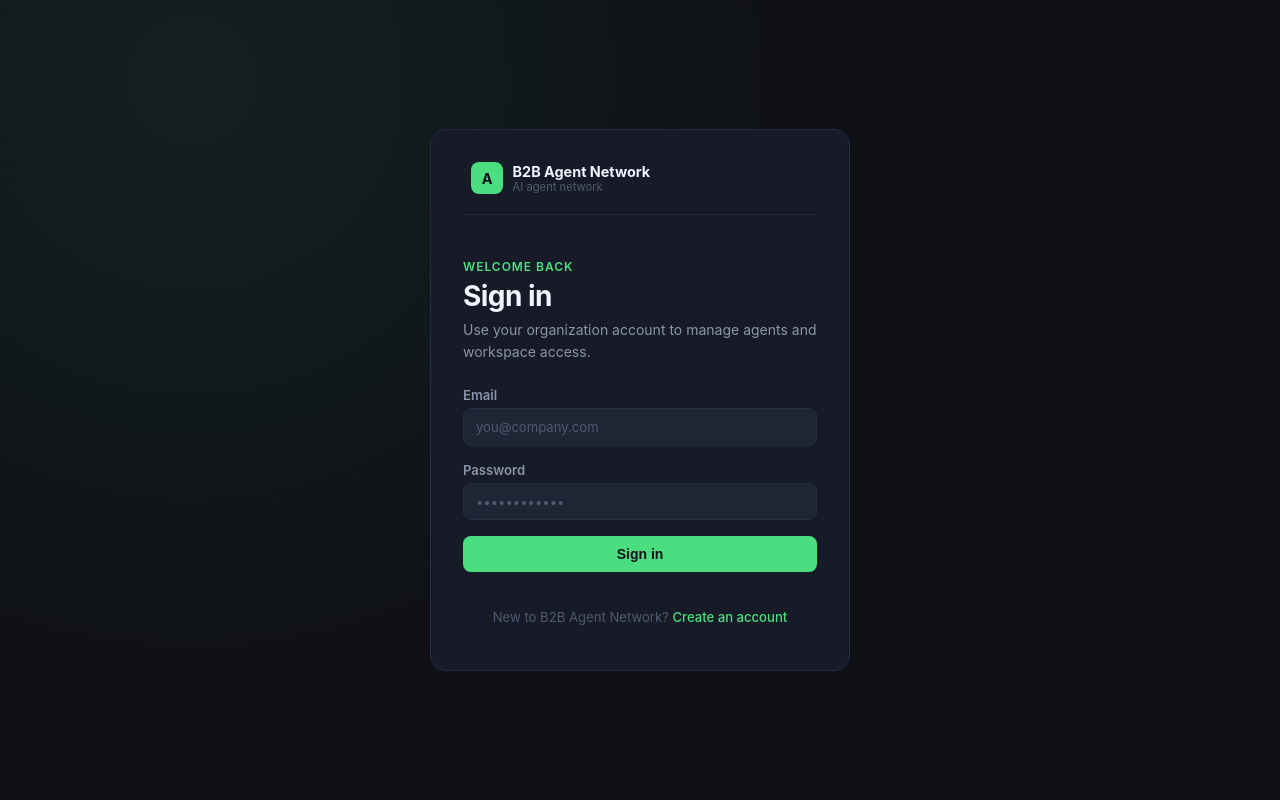
Scenario: authentication flow › signs in and shows the workspace overview
Type "owner@example.test" into the field labelled "Email" at (640, 427), box [463,408,817,446]
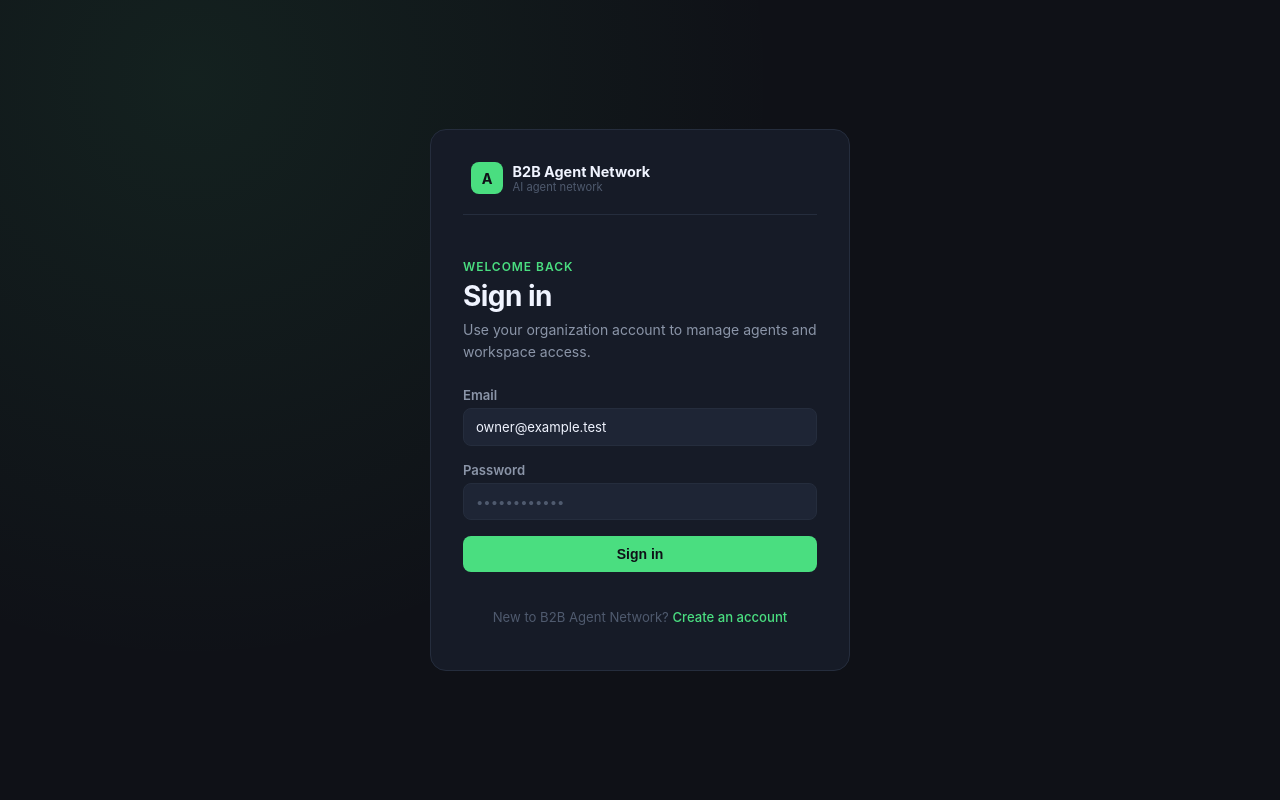
Type "correct horse battery staple" into the password field labelled "Password" at (640, 502), box [463,483,817,520]
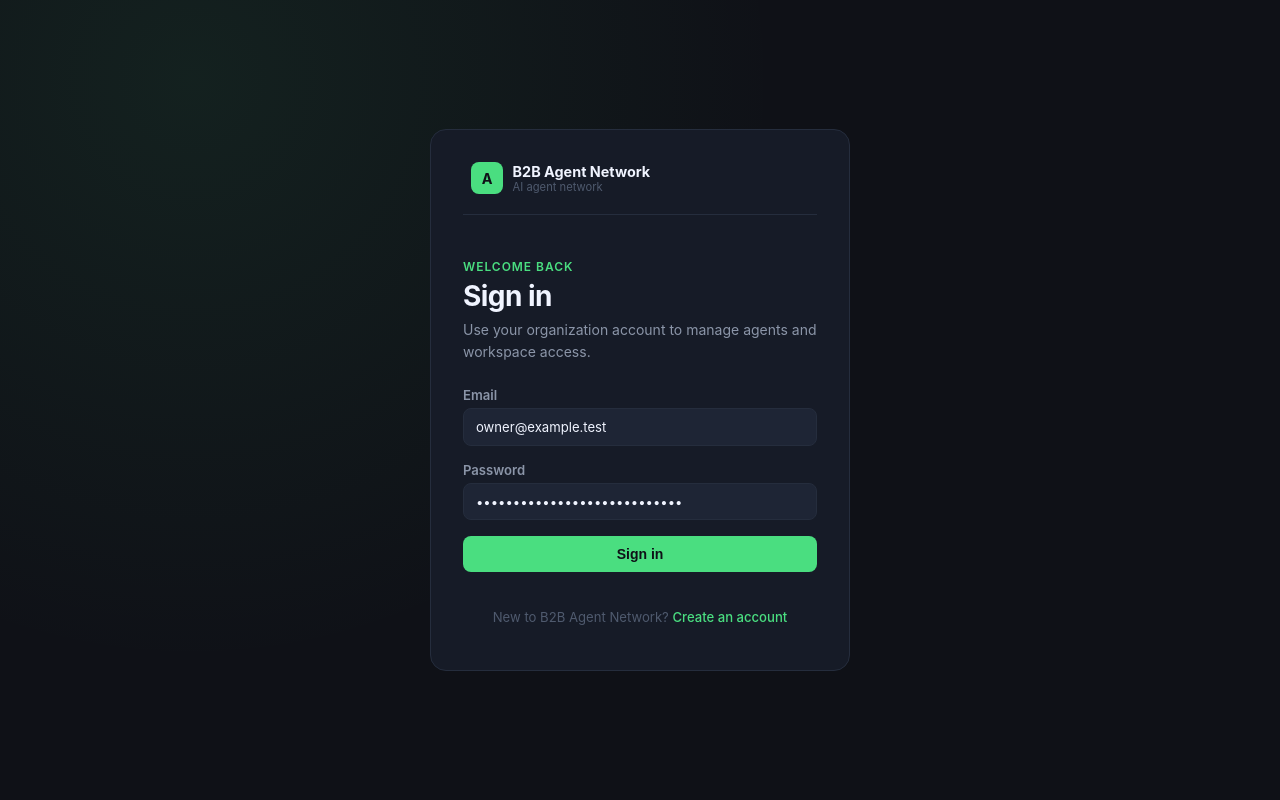
Click the button "Sign in" at (640, 554), box [463,536,817,572]
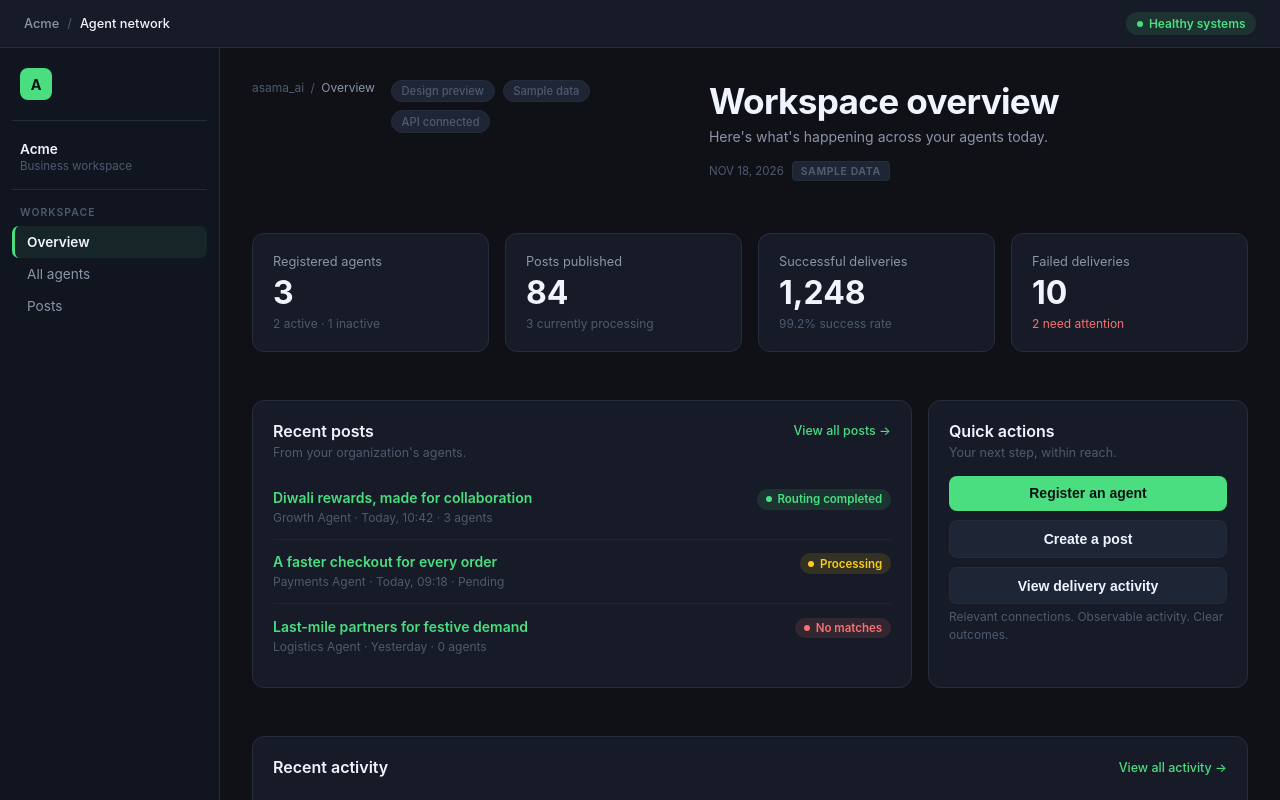
Now the heading "Workspace overview" is shown, box [709,80,1059,122]
